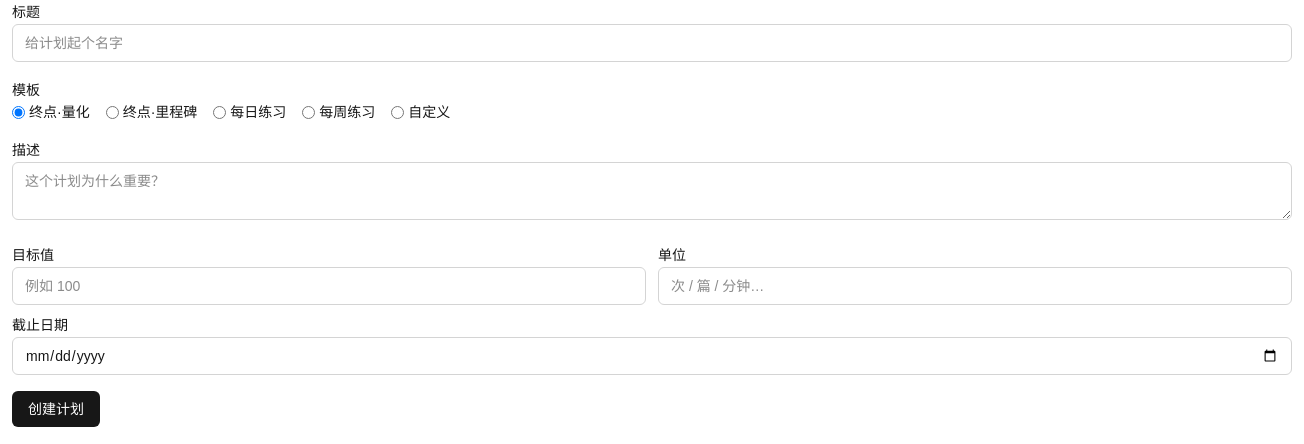
Test: PlanForm › milestone 模板只显示截止日
Click the radio button labelled "终点·里程碑" at (112, 112), box [106,106,119,118]
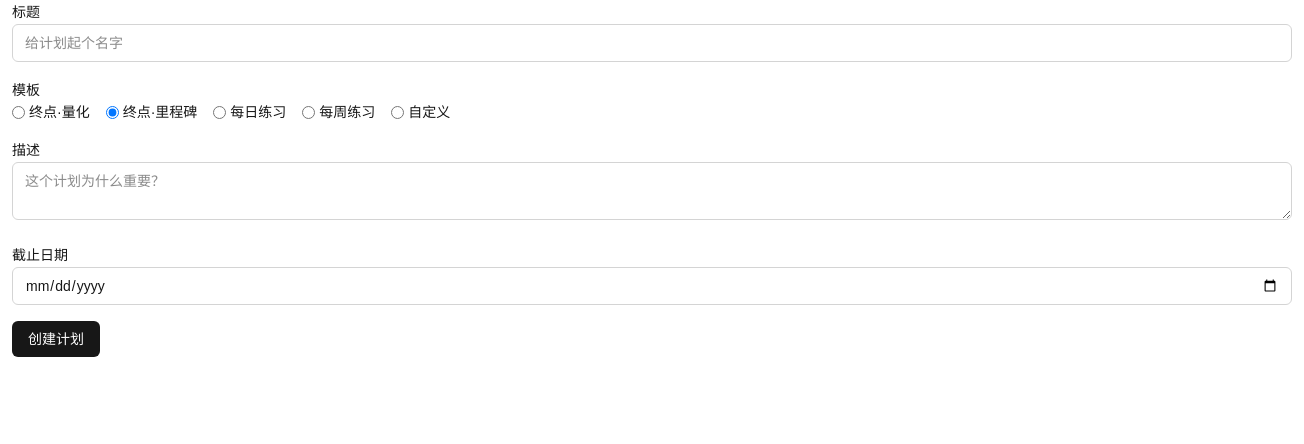
Expected: the date field labelled "截止日期" is shown, [12,267,1292,305]
Expected: the label labelled "目标值" is gone
